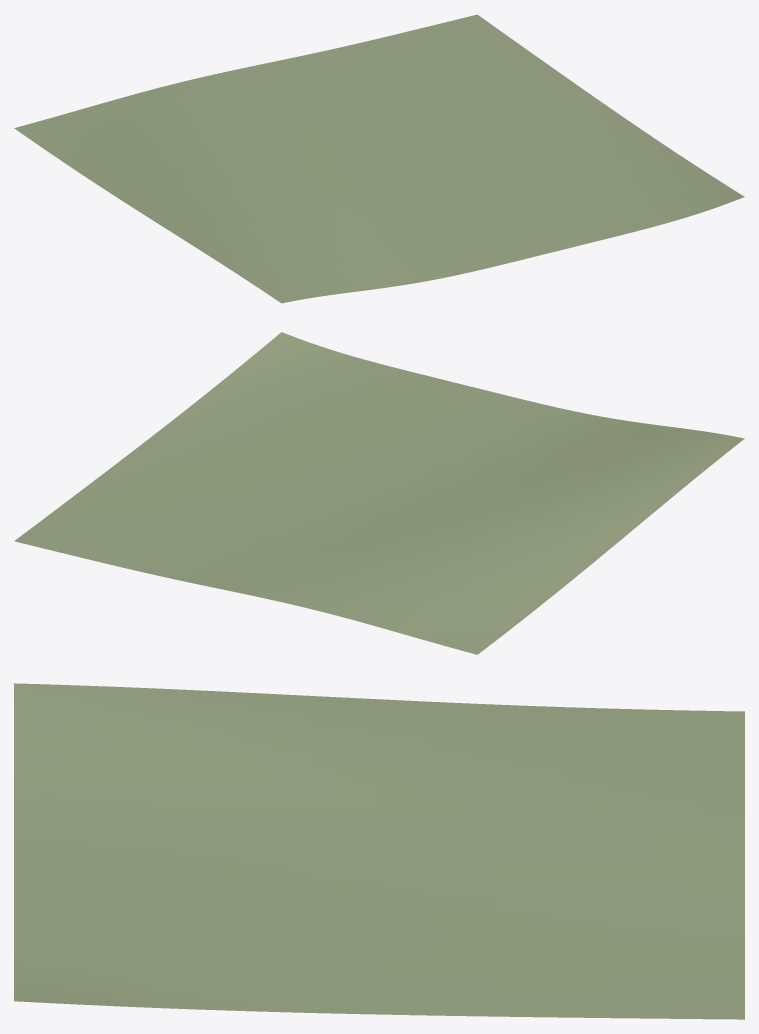
The model's file is desert-3-2.glb.
3 views of the same model, one above another, from view 1: azimuth 30°, elevation 25°; view 2: azimuth 150°, elevation 25°; view 3: azimuth 270°, elevation 25° (orthographic). The views are drawn at different scales.
Visible parts, largest first — view 1: desert-3-2; view 2: desert-3-2; view 3: desert-3-2.
Part boxes in pixels (x1,y1,x2,y2): desert-3-2: [14, 14, 744, 303]; desert-3-2: [14, 332, 744, 654]; desert-3-2: [14, 683, 744, 1019].
Bounding box in the file's own units: 512 × 21.69 × 512.
